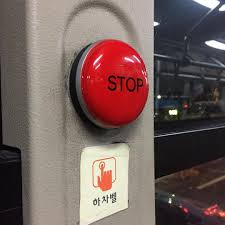bell: (66, 37, 153, 140)
